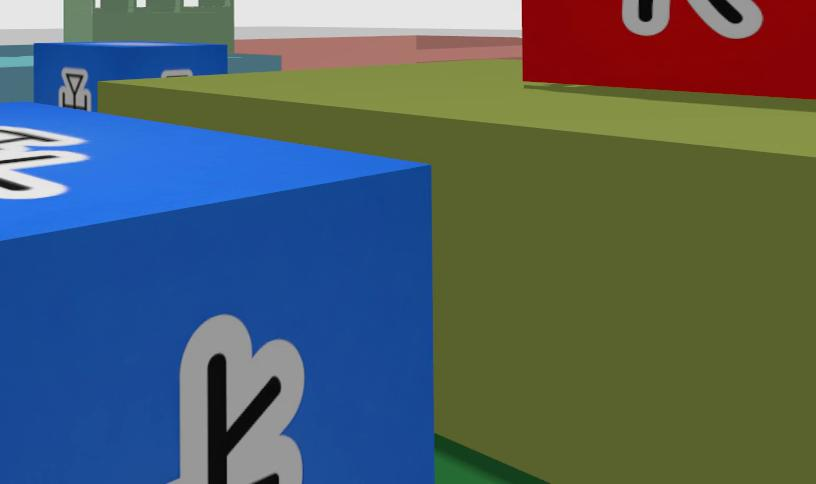KFS_FAKE: (522, 0, 815, 105), (687, 0, 762, 38)
KFS_REAL: (172, 314, 305, 483), (33, 42, 227, 110), (0, 128, 88, 199), (57, 67, 91, 110), (160, 68, 194, 78)
